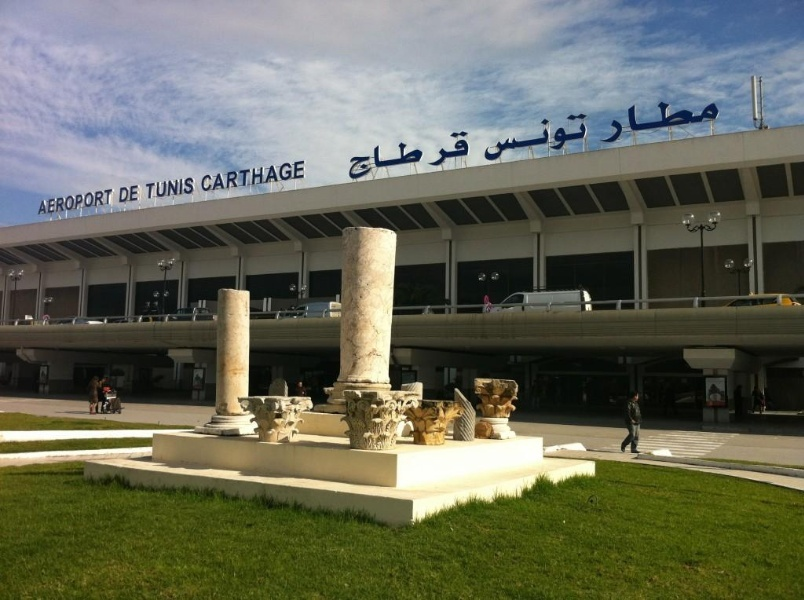text: (497, 108, 512, 164), (513, 108, 528, 164), (529, 108, 544, 164), (545, 108, 560, 164), (561, 108, 576, 164), (353, 130, 368, 183), (369, 130, 384, 183), (385, 130, 400, 183), (401, 130, 416, 183), (417, 130, 432, 183), (433, 130, 448, 183), (449, 130, 464, 183), (609, 99, 624, 150), (625, 99, 640, 150), (641, 99, 656, 150), (657, 99, 672, 150), (673, 99, 688, 150), (689, 99, 704, 150), (705, 99, 720, 150), (577, 108, 587, 164), (209, 159, 224, 192), (225, 159, 240, 192), (241, 159, 256, 192), (257, 159, 272, 192), (273, 159, 288, 192), (289, 159, 304, 192), (49, 187, 64, 216), (65, 187, 80, 216), (81, 187, 96, 216), (97, 187, 112, 216), (145, 174, 160, 200), (161, 174, 176, 200), (177, 174, 192, 200), (465, 130, 470, 183), (129, 183, 141, 203), (492, 108, 496, 164), (41, 187, 48, 216), (202, 159, 208, 192), (119, 183, 128, 203), (113, 187, 119, 216), (305, 159, 308, 192), (351, 130, 352, 183), (607, 99, 608, 150), (193, 174, 194, 200)
